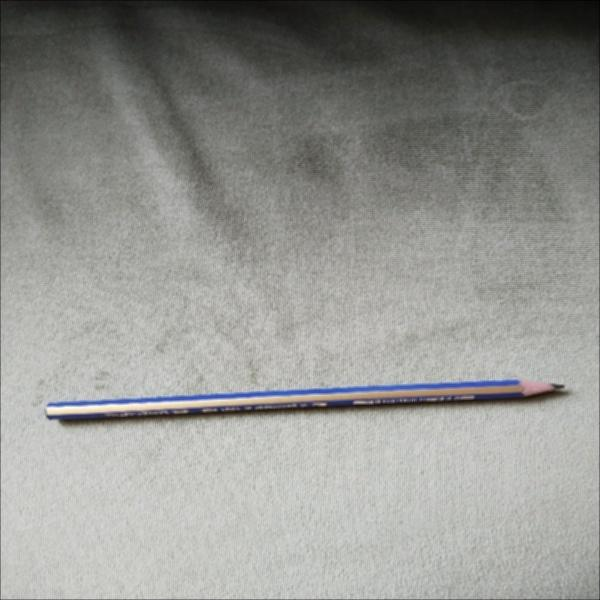pencil: (41, 372, 573, 428)
